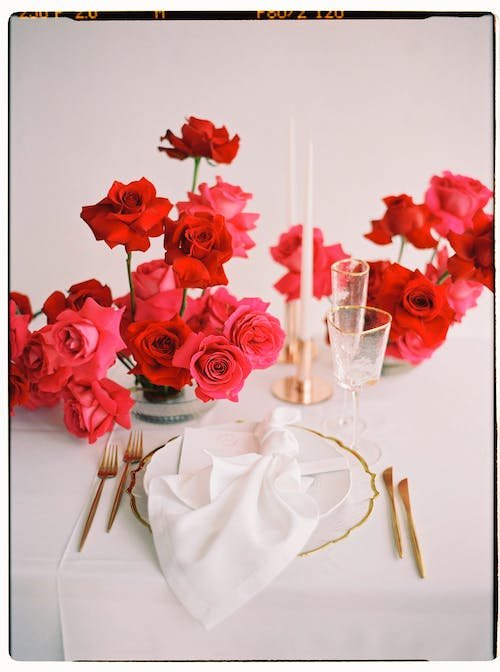knife: (395, 476, 428, 583), (380, 461, 407, 558)
